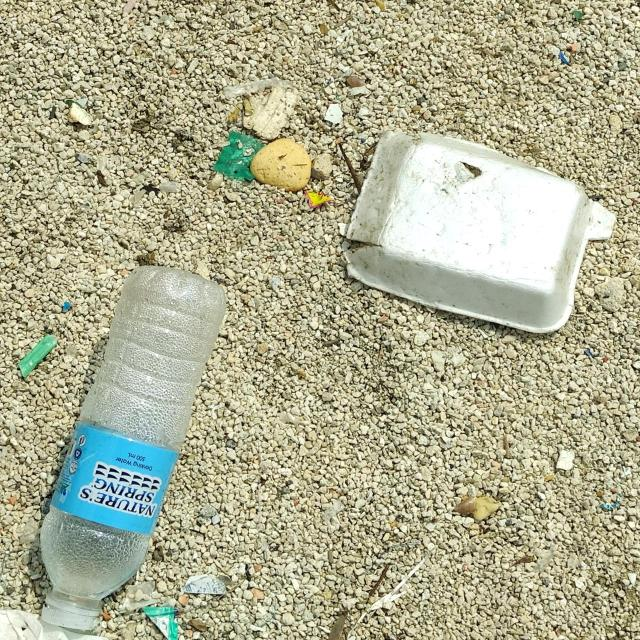plastic_waste: (43, 264, 233, 632)
styrofoam_waste: (350, 129, 618, 334)
